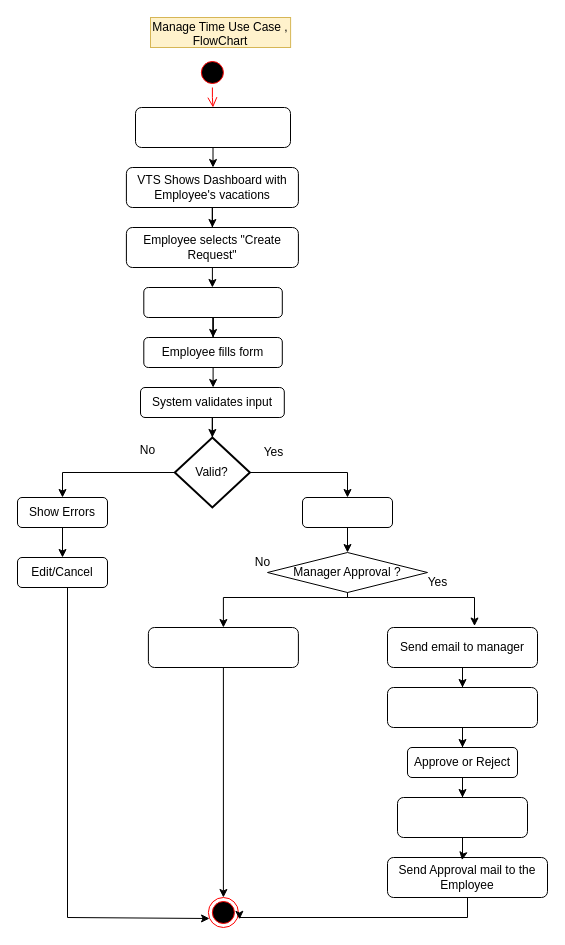
Some shapes in this 565 by 945 pixel diagram are drawn without their labels. Each missing label, with the centre of its shape:
Employee logs into VTS: (x=212, y=127)
Manager Logs in review Requests: (x=462, y=707)
Save Request: (x=347, y=512)
Send Confirmation To Employee: (x=222, y=647)
Update Request Status: (x=462, y=817)
VTS shows request form: (x=212, y=302)
